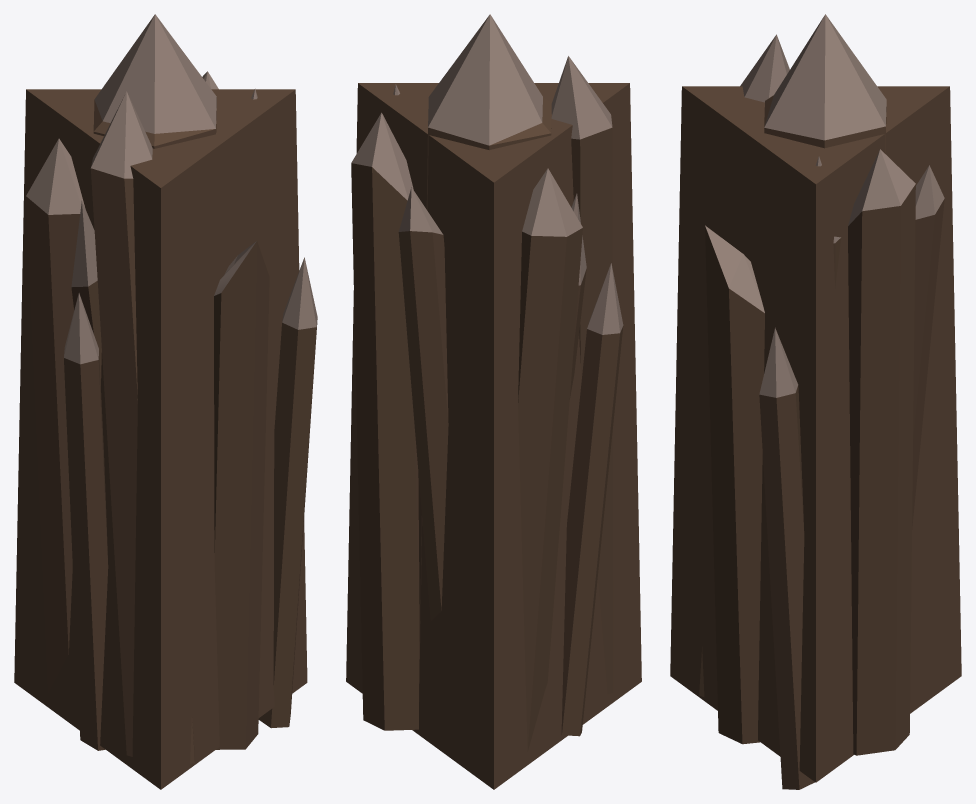
File: wall-D0InM4Fr.gltf
3 views of the same model, side by side, from view 1: azimuth 30°, elevation 25°; view 2: azimuth 150°, elevation 25°; view 3: azimuth 270°, elevation 25° (orthographic).
Visible parts, largest first — view 1: Main_very_far, alt5, alt1, alt3, alt11, alt9, Main, alt8; view 2: Main_very_far, alt4, alt3, alt11, alt6, alt1, Main, alt8; view 3: Main_very_far, alt4, alt5, alt9, Main, alt6, alt1.
Part boxes in pixels (box(x1,y1,x2,y2)): Main_very_far: box(14, 89, 307, 789); alt5: box(214, 241, 269, 749); alt1: box(90, 91, 194, 763); alt3: box(26, 138, 85, 693); alt11: box(64, 293, 108, 750); alt9: box(258, 257, 317, 728); Main: box(93, 14, 216, 148); alt8: box(71, 201, 101, 385); Main_very_far: box(346, 83, 641, 789); alt4: box(351, 112, 419, 730); alt3: box(518, 168, 582, 751); alt11: box(561, 263, 623, 736); alt6: box(398, 187, 448, 620); alt1: box(551, 56, 613, 694); Main: box(419, 14, 551, 701); alt8: box(569, 193, 586, 399); Main_very_far: box(670, 86, 961, 782); alt4: box(848, 149, 915, 755); alt5: box(705, 225, 764, 744); alt9: box(759, 327, 814, 789); Main: box(764, 14, 886, 154); alt6: box(912, 165, 944, 529); alt1: box(699, 34, 789, 696).
Size of the model in its own units: 1.8 by 4.83 by 1.77.
